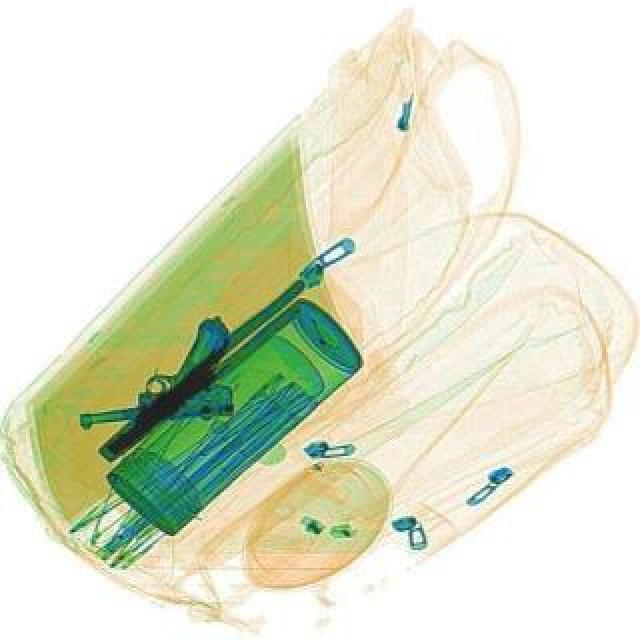gun: (66, 314, 236, 426)
wrench: (88, 274, 318, 468)
